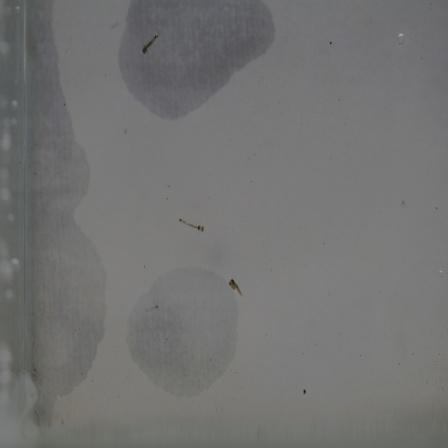Jentik-Nyamuk: (176, 211, 211, 239), (138, 30, 162, 63), (226, 274, 248, 300)
